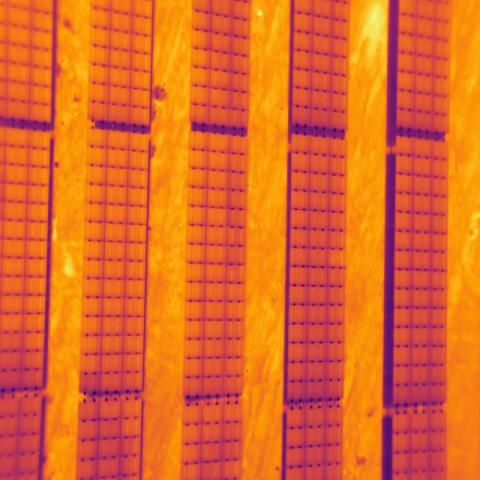fault: (328, 248, 346, 268)
